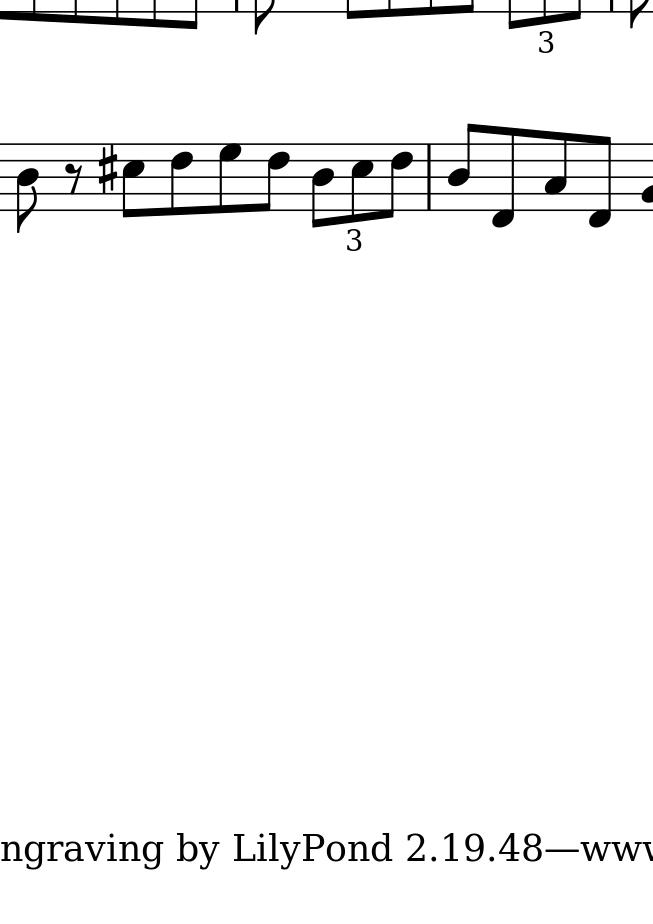3: (342, 226, 366, 256)
8_-1: (489, 126, 518, 231), (584, 133, 614, 231)
8_3: (543, 129, 569, 214)
8_4: (441, 122, 482, 214), (12, 142, 40, 232), (309, 141, 334, 231)
8_5: (349, 141, 374, 224), (119, 142, 145, 221)
8_6: (382, 143, 417, 220), (257, 140, 290, 215), (166, 142, 193, 217)
8_7: (216, 141, 243, 215)
Rests8: (64, 162, 84, 195)
Sharp: (97, 144, 119, 193)
Single_barline: (423, 145, 436, 209)
